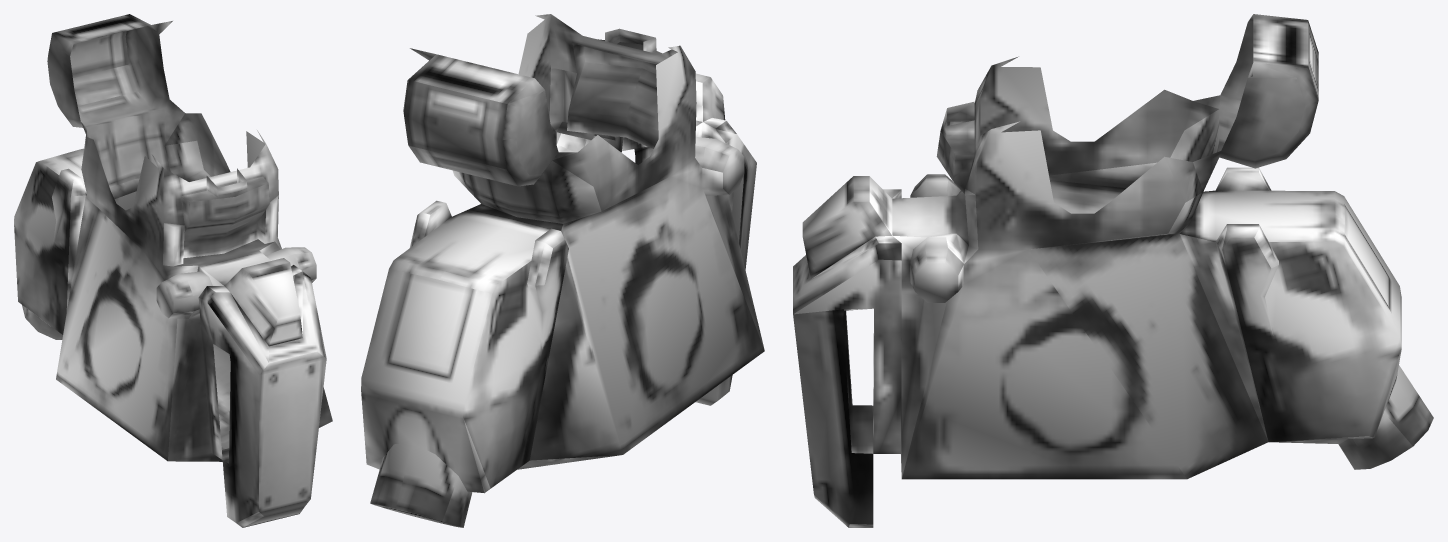
The model's file is pelvis.glb.
The picture shows the model from 3 angles, left to right: view 1: azimuth 30°, elevation 25°; view 2: azimuth 150°, elevation 25°; view 3: azimuth 270°, elevation 25°; orthographic projection. The views are drawn at different scales.
Parts seen in each view (by area): view 1: pelvis; view 2: pelvis; view 3: pelvis.
Boxes of the visible parts, x1,y1,x2,y2 form: pelvis: (14,14,332,527); pelvis: (361,14,764,527); pelvis: (793,14,1433,527).
Size of the model in its own units: 0.4329 by 0.9282 by 1.14.
Materials: 3 (3 with a texture image).
